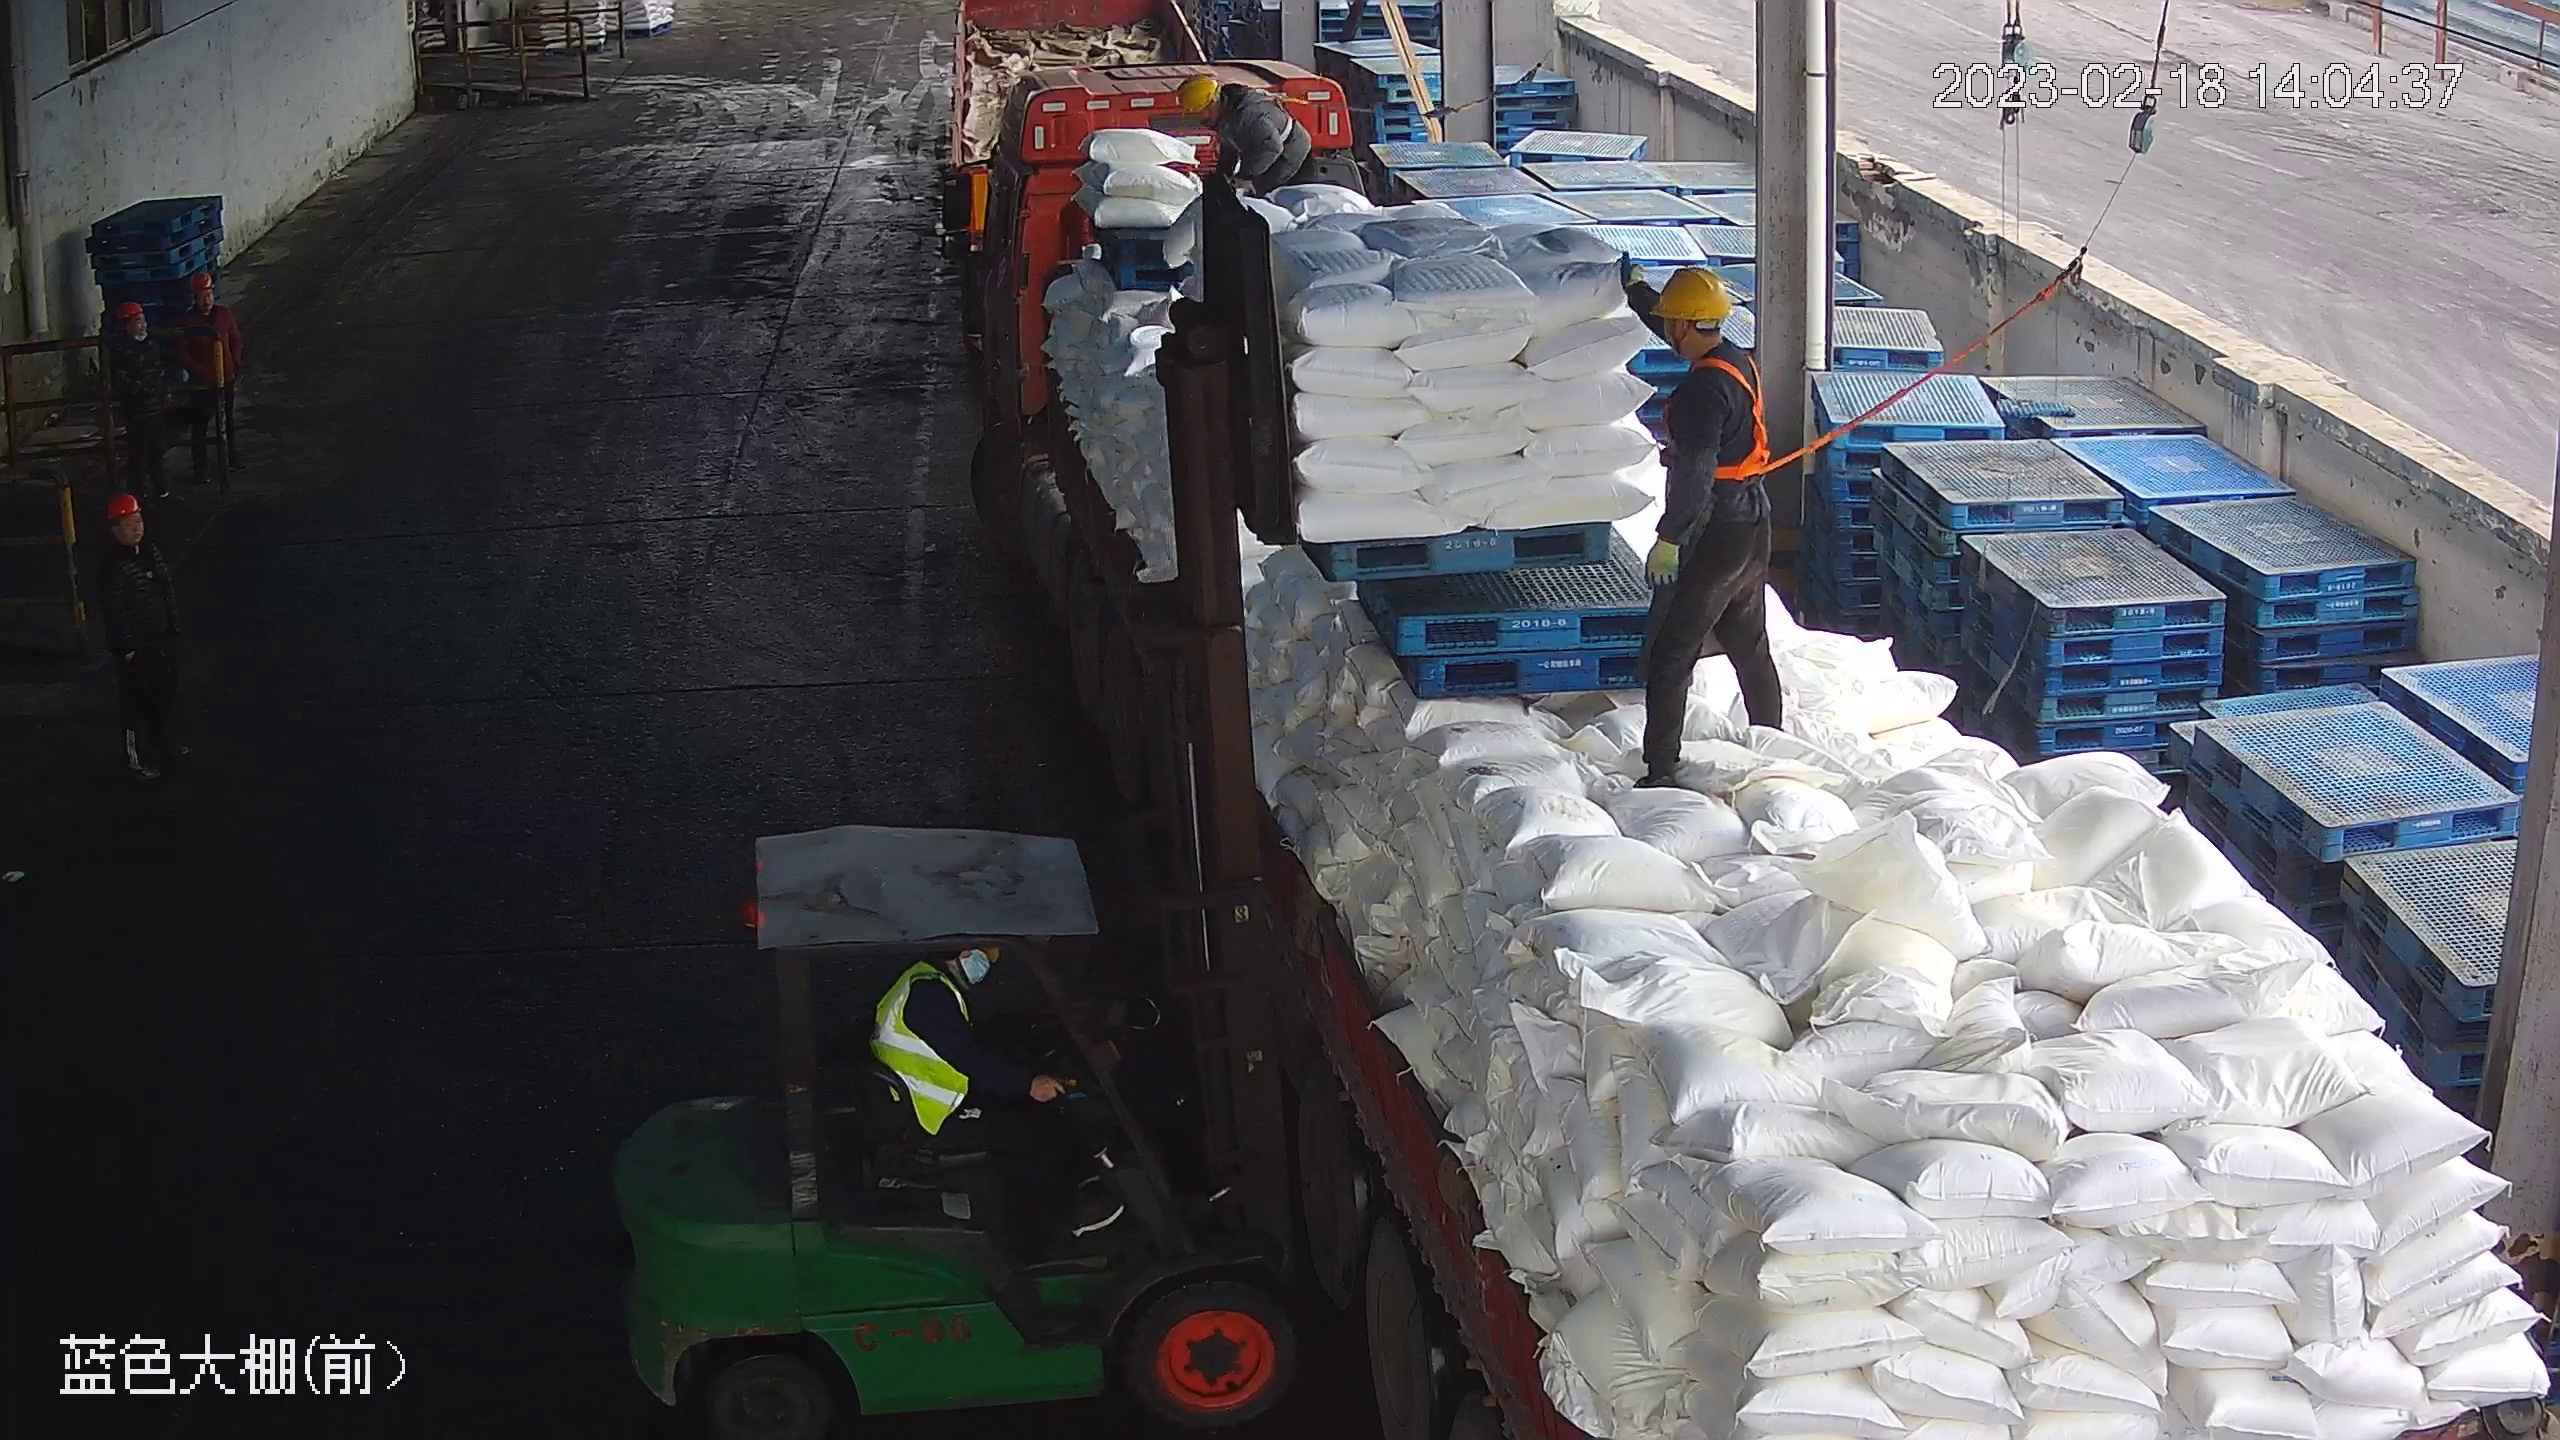belt: (1687, 348, 1793, 483), (1222, 84, 1293, 151)
head: (1636, 263, 1772, 419), (90, 491, 171, 592), (1182, 72, 1271, 136), (105, 294, 167, 360), (175, 265, 230, 330)
helmet: (1638, 262, 1770, 416), (1647, 262, 1733, 320), (1178, 70, 1222, 115), (101, 490, 141, 523), (115, 298, 148, 323), (187, 268, 212, 290)
people: (1623, 259, 1788, 789), (870, 936, 1133, 1239), (90, 490, 185, 790), (1170, 69, 1321, 209), (162, 265, 242, 491), (107, 290, 178, 498)
truck: (948, 41, 2556, 1440)
